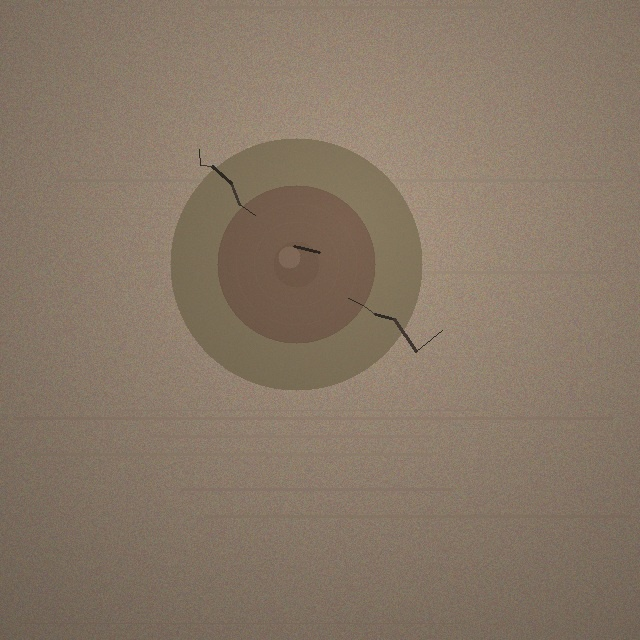crack: (170, 138, 422, 390)
